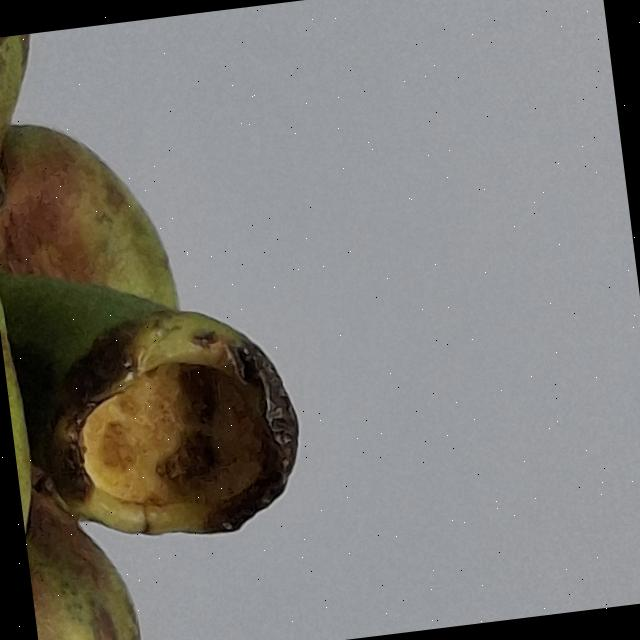mangosteen: (0, 0, 478, 640)
